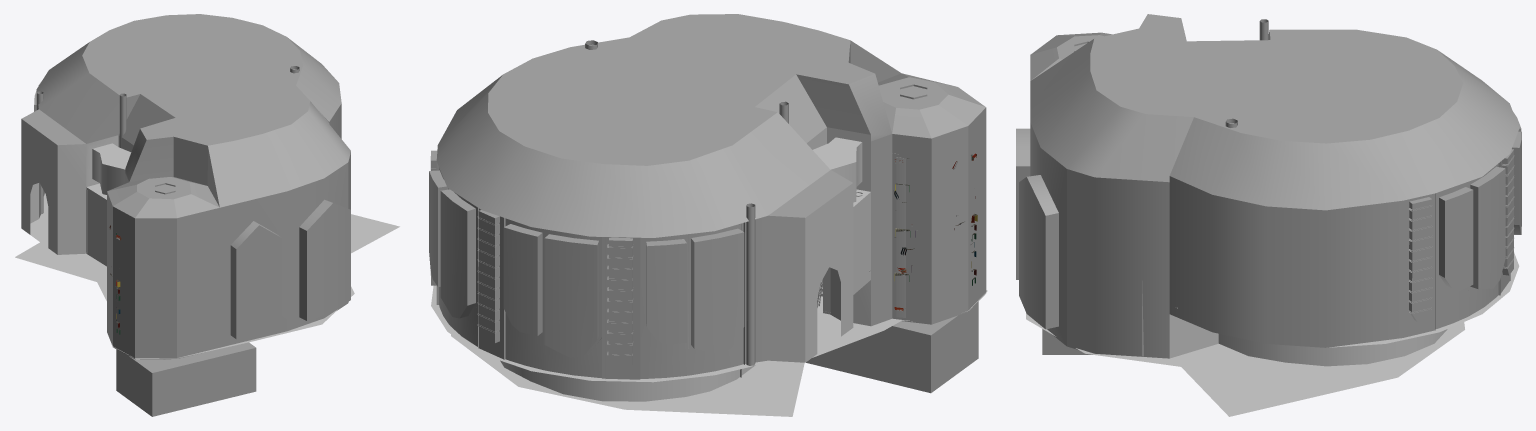
File: Environ-History.fbx
3 renders of one model, left to right at view 1: azimuth 30°, elevation 25°; view 2: azimuth 150°, elevation 25°; view 3: azimuth 270°, elevation 25°, orthographic. The views are drawn at different scales.
Parts seen in each view (by area): view 1: Room_Roof_Enviroment, backWall, groundWalls, basementHistorywalls, Column_2_Enviro; view 2: Room_Roof_Enviroment, groundWalls, Wall_Window_Enviro_2, backWall, Wall_Window_Enviro_1, basementHistorywalls, Wall_Window_Enviro_3, sideWall, Column_1_Enviro, Bookcase_1, histBookcase_curved_2; view 3: Room_Roof_Enviroment, sideWall, backWall, groundWalls, Wall_Window_Enviro_3, Wall_Window_Enviro_1, basementHistorywalls.
Boxes of the visible parts, x1,y1,x2,y2 form: Room_Roof_Enviroment: (22,14,350,218); backWall: (107,152,350,359); groundWalls: (15,119,399,359); basementHistorywalls: (116,342,256,416); Column_2_Enviro: (119,93,126,148); Room_Roof_Enviroment: (436,14,985,237); groundWalls: (431,127,987,416); Wall_Window_Enviro_2: (602,222,744,379); backWall: (871,107,986,326); Wall_Window_Enviro_1: (477,208,605,378); basementHistorywalls: (806,301,978,393); Wall_Window_Enviro_3: (429,150,478,348); sideWall: (745,216,767,363); Column_1_Enviro: (746,203,755,365); Bookcase_1: (894,153,905,317); histBookcase_curved_2: (894,153,977,311); Room_Roof_Enviroment: (1030,14,1519,210); sideWall: (1169,176,1403,347); backWall: (1016,122,1169,358); groundWalls: (1026,252,1519,416); Wall_Window_Enviro_3: (1403,162,1505,337); Wall_Window_Enviro_1: (1499,112,1521,295); basementHistorywalls: (1042,329,1092,354).
Size of the model in its own units: 43.4 by 29.69 by 44.43.
